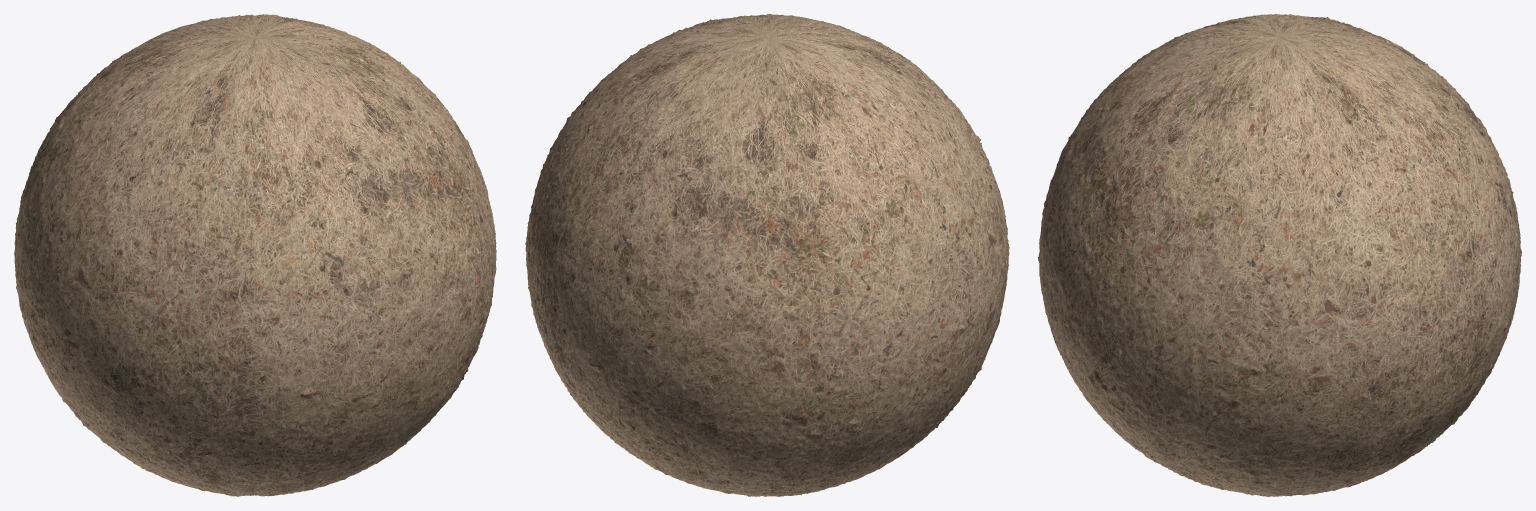
The model's file is withered_grass_1k.gltf.
3 views of the same model, side by side, from view 1: azimuth 30°, elevation 25°; view 2: azimuth 150°, elevation 25°; view 3: azimuth 270°, elevation 25° (orthographic).
Parts seen in each view (by area): view 1: sphere_gltf; view 2: sphere_gltf; view 3: sphere_gltf.
Part boxes in pixels (box(x1,y1,x2,y2)): sphere_gltf: box(14, 14, 496, 496); sphere_gltf: box(525, 14, 1009, 496); sphere_gltf: box(1038, 14, 1521, 496).
Size of the model in its own units: 2.01 by 2 by 2.
Materials: 1 (1 with a texture image).
